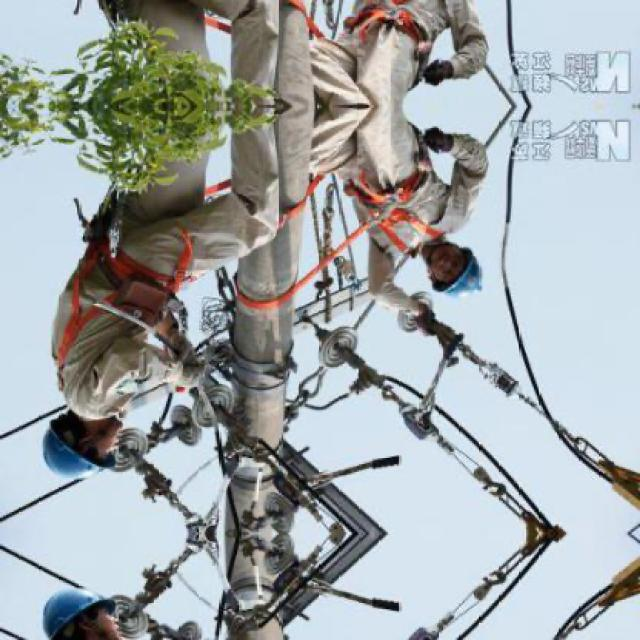con casco: (423, 224, 532, 314), (45, 418, 145, 507)
